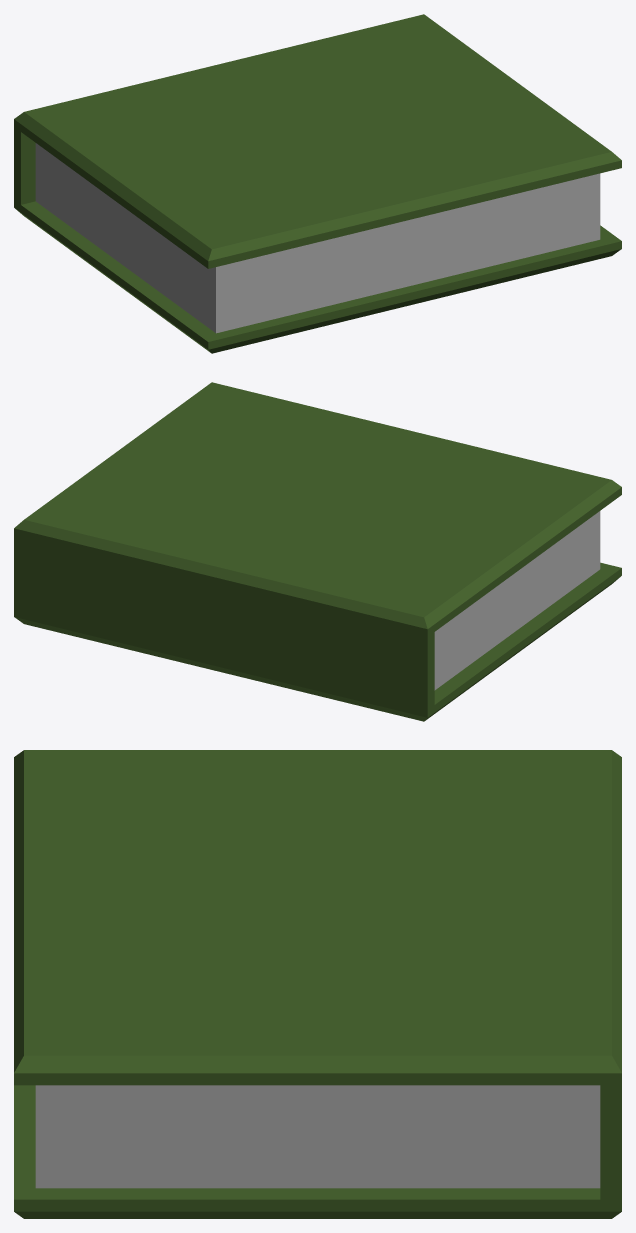
Rendered from Character_Rooms_Books_Green.fbx.
The picture shows the model from 3 angles, top to bottom: view 1: azimuth 30°, elevation 25°; view 2: azimuth 150°, elevation 25°; view 3: azimuth 270°, elevation 25°; orthographic projection. The views are drawn at different scales.
Parts seen in each view (by area): view 1: book.011; view 2: book.011; view 3: book.011.
Part boxes in pixels (box(x1,y1,x2,y2)): book.011: box(14, 14, 621, 353); book.011: box(14, 382, 621, 721); book.011: box(14, 750, 621, 1218).
Bounding box in the file's own units: 52.97 × 12.76 × 43.07.
